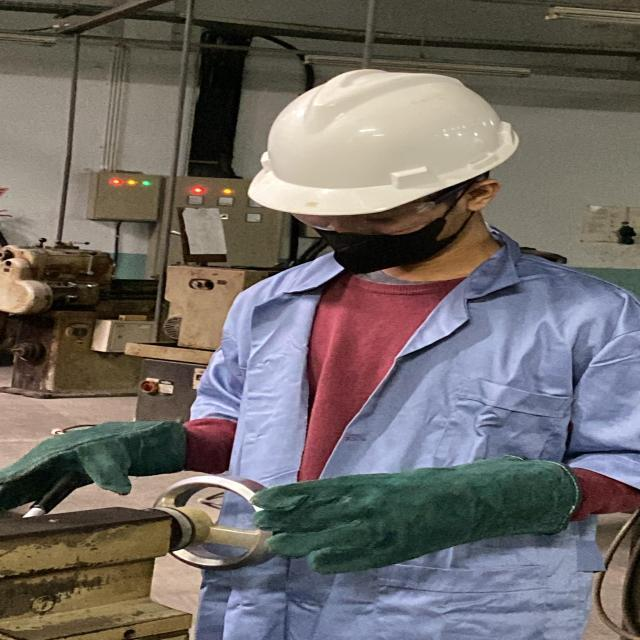glasses: (284, 195, 453, 236)
